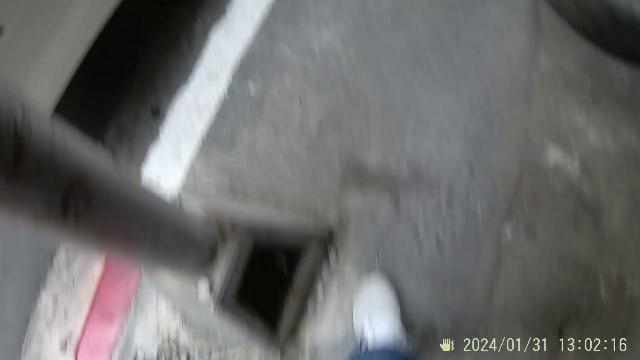utility_post: (0, 82, 346, 348)
